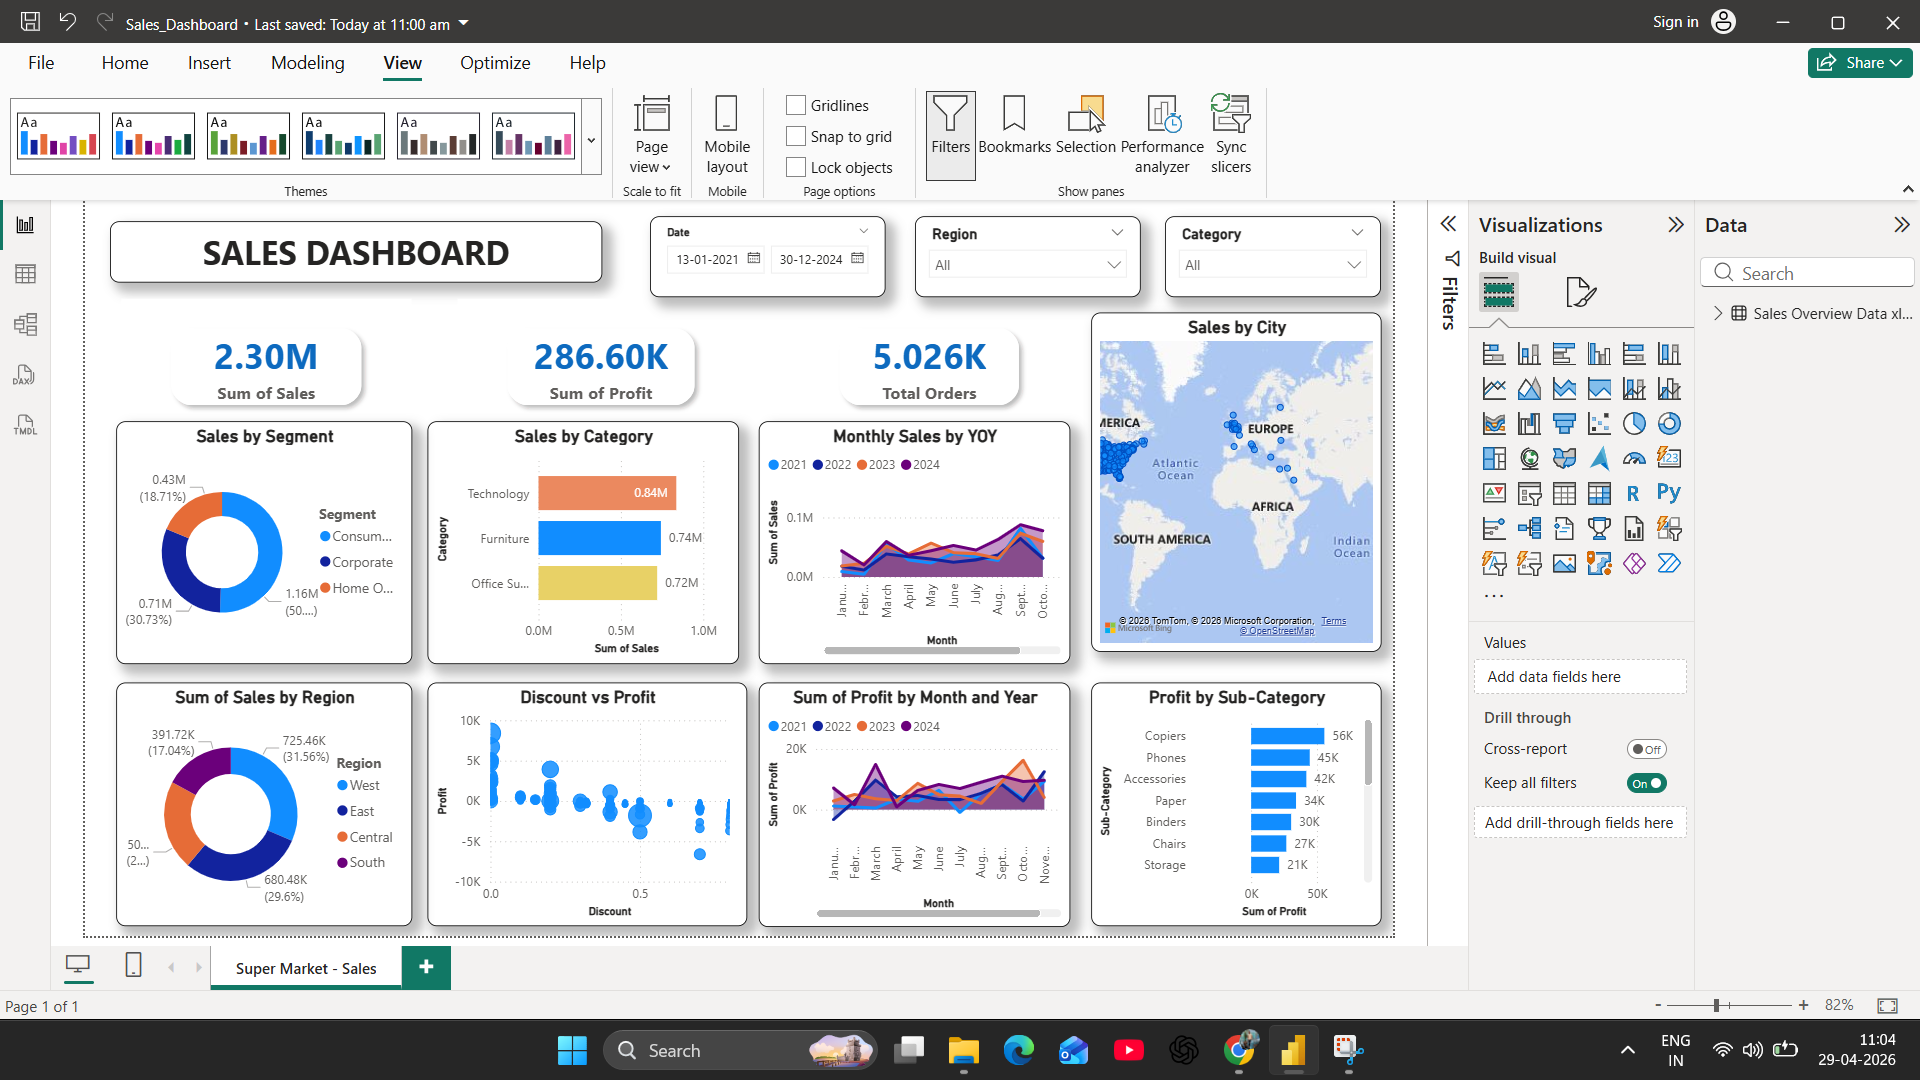

The dashboard page shown, as its layout file describes it:
{"tool":"powerbi","page":{"name":"Super Market  - Sales","canvas":[1280,720],"ordinal":0},"visuals":[{"type":"textbox","box":[24.7,20.6,481.6,60.4],"z":0},{"type":"cardVisual","fields":{"Data":["Sum(Sales Overview Data xlsx - Sales Data.Sales)"]},"box":[35.7,96.1,284,133.1],"z":1000},{"type":"cardVisual","fields":{"Data":["Sum(Sales Overview Data xlsx - Sales Data.Profit)"]},"box":[365,96.1,281.3,133.1],"z":2000},{"type":"cardVisual","fields":{"Data":["Count(Sales Overview Data xlsx - Sales Data.Order ID)"]},"box":[690.2,96.1,273.1,133.1],"z":3000},{"type":"slicer","fields":{"Values":["Sales Overview Data xlsx - Sales Data.Order Date"]},"box":[553,16.5,230.5,79.6],"z":4000},{"type":"areaChart","title":"Monthly Sales by YOY","fields":{"Category":["Sales Overview Data xlsx - Sales Data.Order Date.Variation.Date Hierarchy.Month"],"Y":["Sum(Sales Overview Data xlsx - Sales Data.Sales)"],"Series":["Sales Overview Data xlsx - Sales Data.Order Date.Variation.Date Hierarchy.Year"]},"box":[658.7,216.8,304.6,237.4],"z":5000},{"type":"barChart","title":"Sales by Category","fields":{"Category":["Sales Overview Data xlsx - Sales Data.Category"],"Y":["Sum(Sales Overview Data xlsx - Sales Data.Sales)"]},"box":[334.8,216.8,304.6,237.4],"z":6000},{"type":"clusteredBarChart","title":"Profit by Sub-Category","fields":{"Category":["Sales Overview Data xlsx - Sales Data.Sub-Category"],"Y":["Sum(Sales Overview Data xlsx - Sales Data.Profit)"]},"box":[983.9,472,284,238.8],"z":7000},{"type":"slicer","fields":{"Values":["Sales Overview Data xlsx - Sales Data.Region"]},"box":[812.4,16.5,220.9,79.6],"z":8000},{"type":"slicer","fields":{"Values":["Sales Overview Data xlsx - Sales Data.Category"]},"box":[1056.6,16.5,211.3,79.6],"z":9000},{"type":"scatterChart","title":"Discount vs Profit","fields":{"X":["Sales Overview Data xlsx - Sales Data.Discount"],"Y":["Sales Overview Data xlsx - Sales Data.Profit"],"Size":["Sum(Sales Overview Data xlsx - Sales Data.Sales)"]},"box":[334.8,472,312.9,238.8],"z":10000},{"type":"donutChart","fields":{"Category":["Sales Overview Data xlsx - Sales Data.Region"],"Y":["Sum(Sales Overview Data xlsx - Sales Data.Sales)"]},"box":[30.2,472,289.5,238.8],"z":11000},{"type":"donutChart","title":"Sales by Segment","fields":{"Category":["Sales Overview Data xlsx - Sales Data.Segment"],"Y":["Sum(Sales Overview Data xlsx - Sales Data.Sales)"]},"box":[30.2,216.8,289.5,237.4],"z":12000},{"type":"areaChart","title":"Monthly Profit by YOY","fields":{"Category":["Sales Overview Data xlsx - Sales Data.Order Date.Variation.Date Hierarchy.Month"],"Y":["Sum(Sales Overview Data xlsx - Sales Data.Profit)"],"Series":["Sales Overview Data xlsx - Sales Data.Order Date.Variation.Date Hierarchy.Year"]},"box":[659,472,305,239],"z":13000},{"type":"map","title":"Sales by City","fields":{"Category":["Sales Overview Data xlsx - Sales Data.City"]},"box":[983.9,109.8,284,332.1],"z":14000}]}

Visuals, with their boxes on the page's 1280x720 design canvas (x1, y1, x2, y2). These are canvas units, not pixel positions in the 1920x1080 screenshot, which may show the page scaled, cropped or inside an application window:
textbox: Rect(25, 21, 506, 81)
cardVisual - Sum(Sales Overview Data xlsx - Sales Data.Sales): Rect(36, 96, 320, 229)
cardVisual - Sum(Sales Overview Data xlsx - Sales Data.Profit): Rect(365, 96, 646, 229)
cardVisual - Count(Sales Overview Data xlsx - Sales Data.Order ID): Rect(690, 96, 963, 229)
slicer - Sales Overview Data xlsx - Sales Data.Order Date: Rect(553, 16, 784, 96)
"Monthly Sales by YOY" areaChart: Rect(659, 217, 963, 454)
"Sales by Category" barChart: Rect(335, 217, 639, 454)
"Profit by Sub-Category" clusteredBarChart: Rect(984, 472, 1268, 711)
slicer - Sales Overview Data xlsx - Sales Data.Region: Rect(812, 16, 1033, 96)
slicer - Sales Overview Data xlsx - Sales Data.Category: Rect(1057, 16, 1268, 96)
"Discount vs Profit" scatterChart: Rect(335, 472, 648, 711)
donutChart - Sales Overview Data xlsx - Sales Data.Region x Sum(Sales Overview Data xlsx - Sales Data.Sales): Rect(30, 472, 320, 711)
"Sales by Segment" donutChart: Rect(30, 217, 320, 454)
"Monthly Profit by YOY" areaChart: Rect(659, 472, 964, 711)
"Sales by City" map: Rect(984, 110, 1268, 442)
